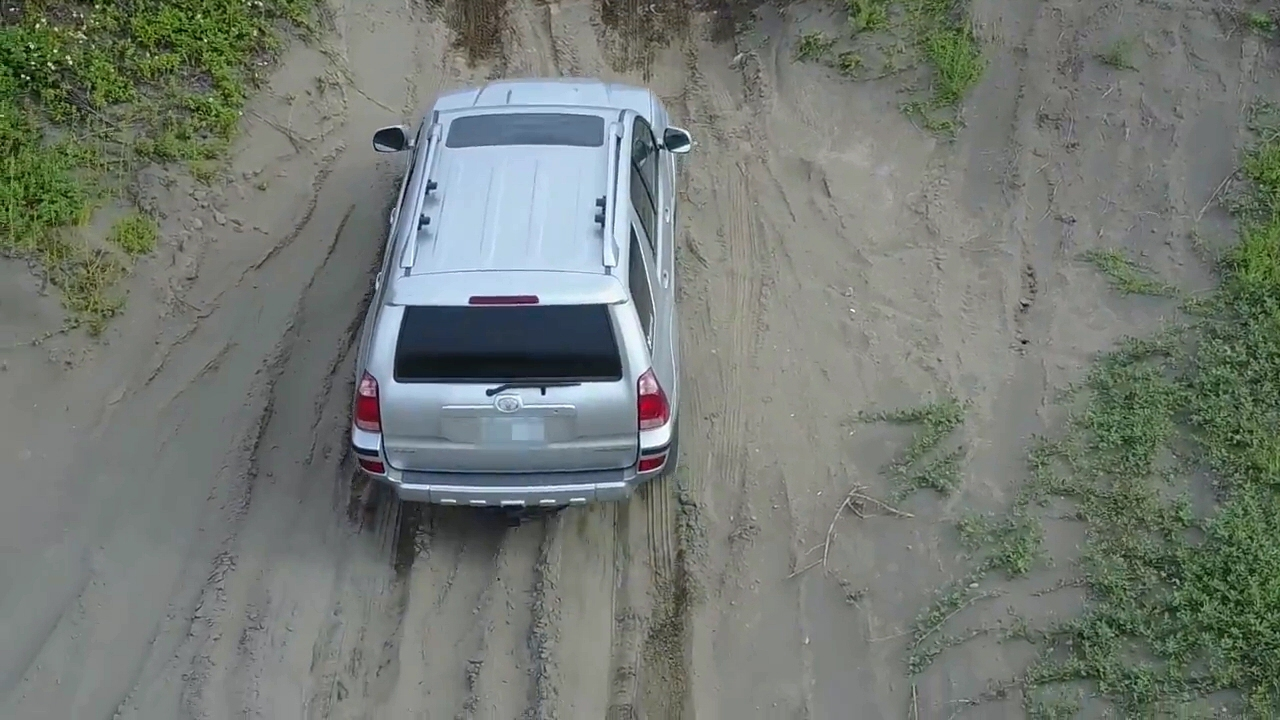araba: (349, 73, 697, 518)
